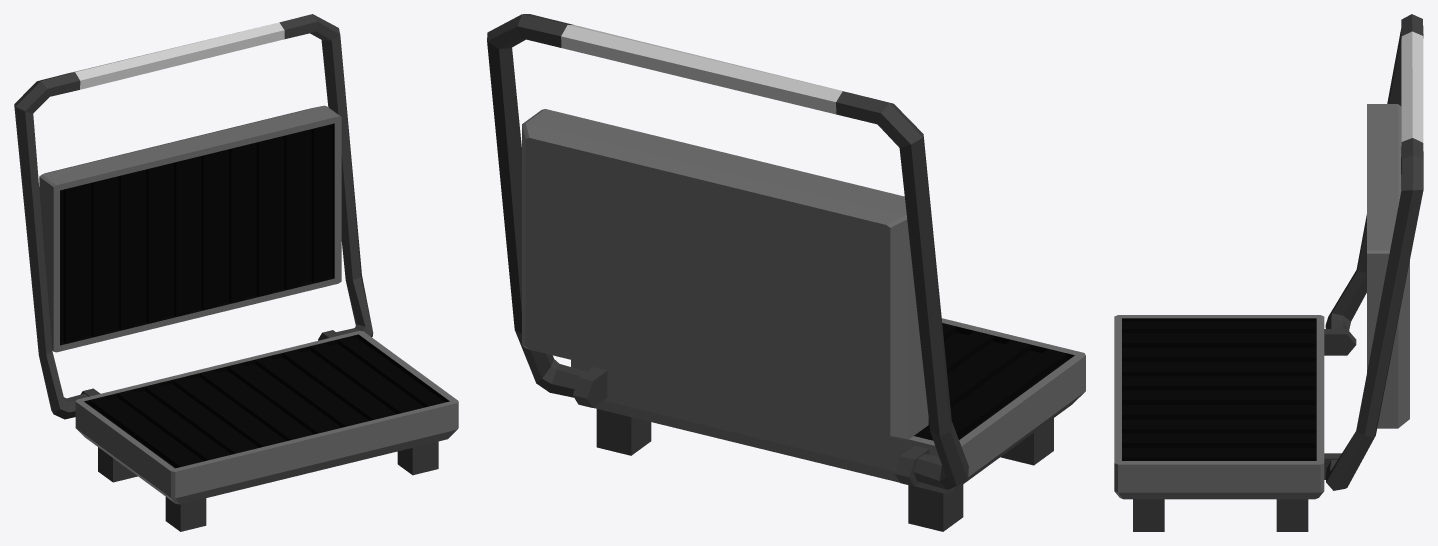
File: C_Toaster_2.fbx
The picture shows the model from 3 angles, left to right: view 1: azimuth 30°, elevation 25°; view 2: azimuth 150°, elevation 25°; view 3: azimuth 270°, elevation 25°; orthographic projection. The views are drawn at different scales.
Visible parts, largest first — view 1: C_Toaster_2; view 2: C_Toaster_2; view 3: C_Toaster_2.
Part boxes in pixels (bbox=[...]): C_Toaster_2: bbox=[14, 14, 458, 531]; C_Toaster_2: bbox=[487, 14, 1085, 531]; C_Toaster_2: bbox=[1114, 14, 1423, 531].
Bounding box in the file's own units: 407 × 316 × 428.
